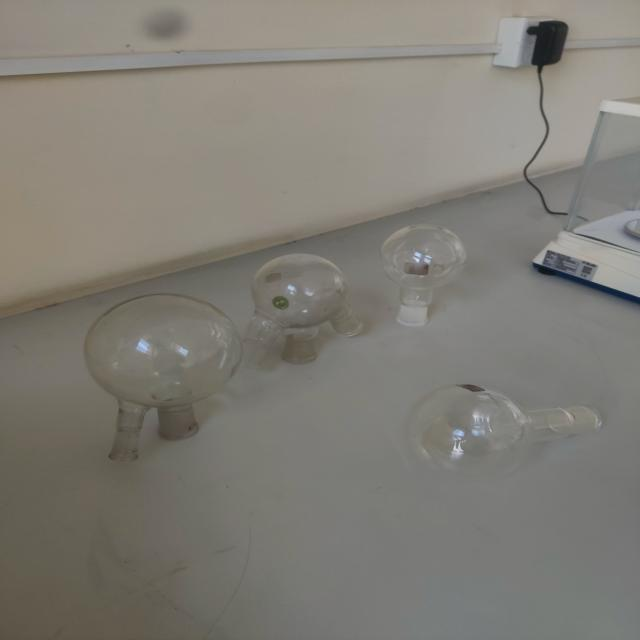Round_Bottom_Flask_Borosilicate_Glass_1_Neck: (393, 364, 615, 494), (376, 197, 493, 340)
Round_Bottom_Flask_Borosilicate_Glass_2_Neck: (69, 277, 249, 476)
Round_Bottom_Flask_Borosilicate_Glass_3_Neck: (224, 229, 390, 381)
